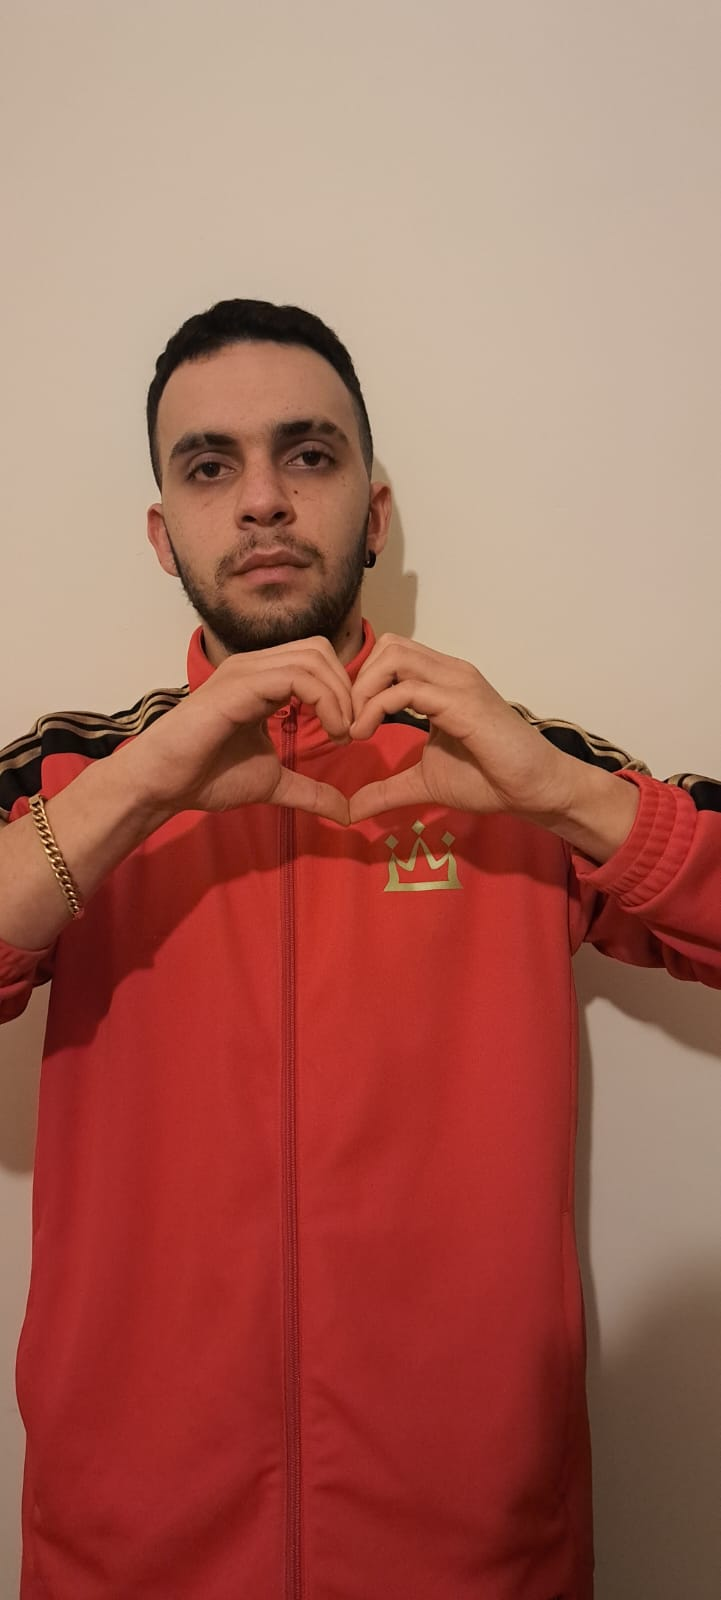cuore: (150, 634, 567, 840)
